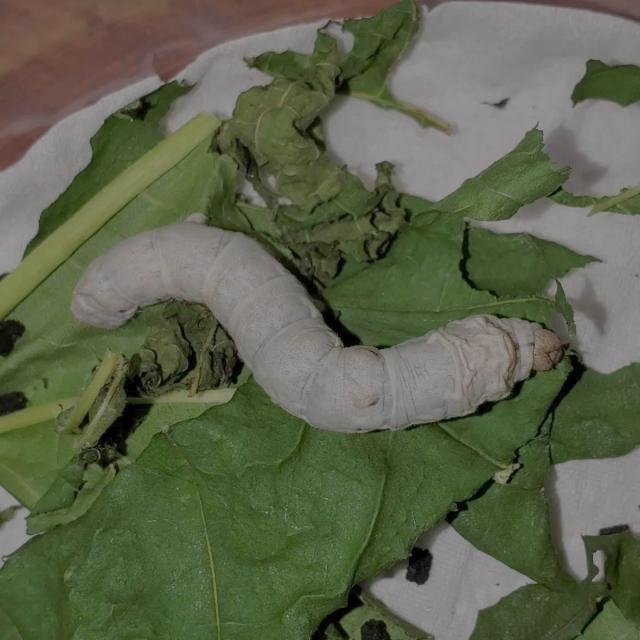Healthy: (61, 214, 568, 443)
